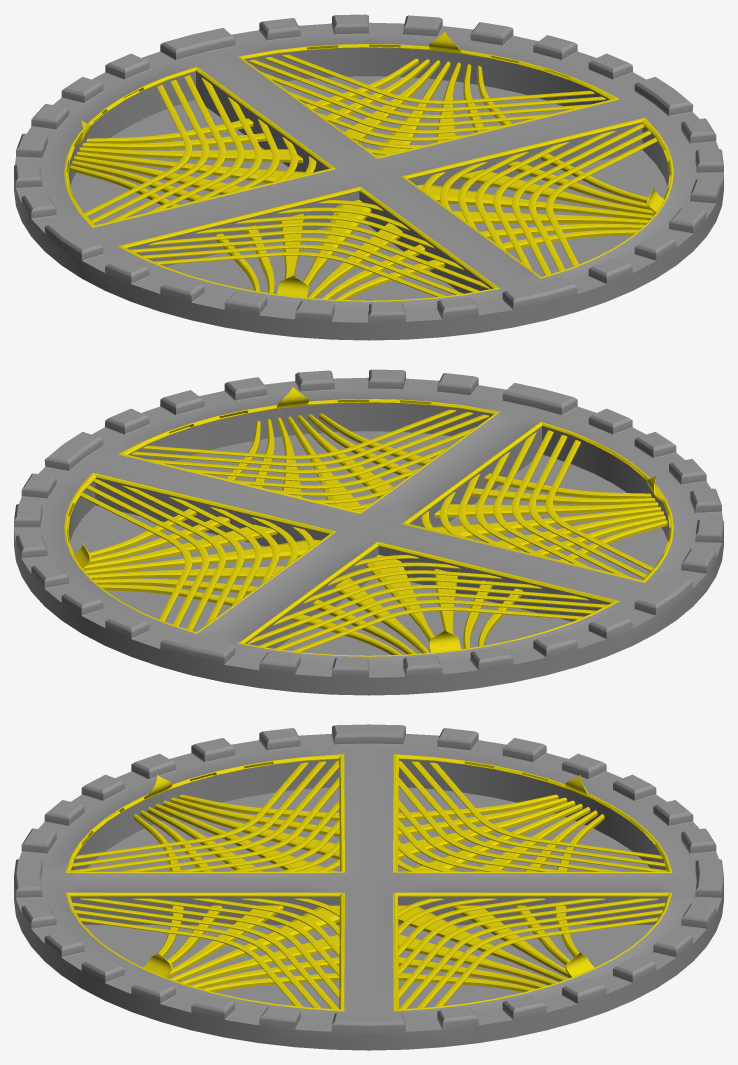
Rendered from m_platform.FBX.
3 renders of one model, top to bottom at view 1: azimuth 30°, elevation 25°; view 2: azimuth 150°, elevation 25°; view 3: azimuth 270°, elevation 25°, orthographic.
Parts seen in each view (by area): view 1: Cylinder001; view 2: Cylinder001; view 3: Cylinder001.
Boxes of the visible parts, x1,y1,x2,y2 form: Cylinder001: [14, 14, 723, 340]; Cylinder001: [14, 369, 723, 695]; Cylinder001: [14, 724, 723, 1050].
Size of the model in its own units: 100 by 7.75 by 100.
